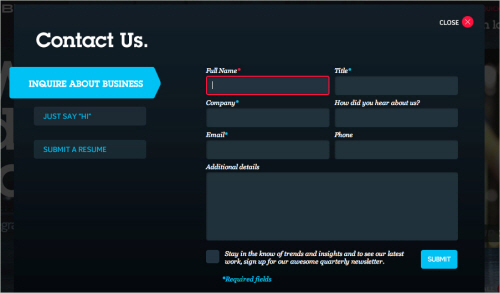_form_: (197, 2, 500, 293), (1, 1, 176, 188)
button: (33, 106, 147, 128), (33, 139, 147, 160), (420, 249, 458, 270)
checkbox: (204, 249, 222, 265)
checkbox_with_label: (202, 247, 404, 268)
field: (204, 171, 459, 242), (204, 106, 331, 129), (332, 107, 459, 129), (203, 139, 330, 160), (332, 139, 459, 160), (205, 75, 329, 96), (334, 76, 458, 96)
field_with_label: (203, 163, 461, 244), (333, 99, 461, 132), (202, 100, 332, 131), (204, 67, 330, 98), (332, 132, 461, 162), (201, 132, 331, 161), (331, 68, 460, 97)
